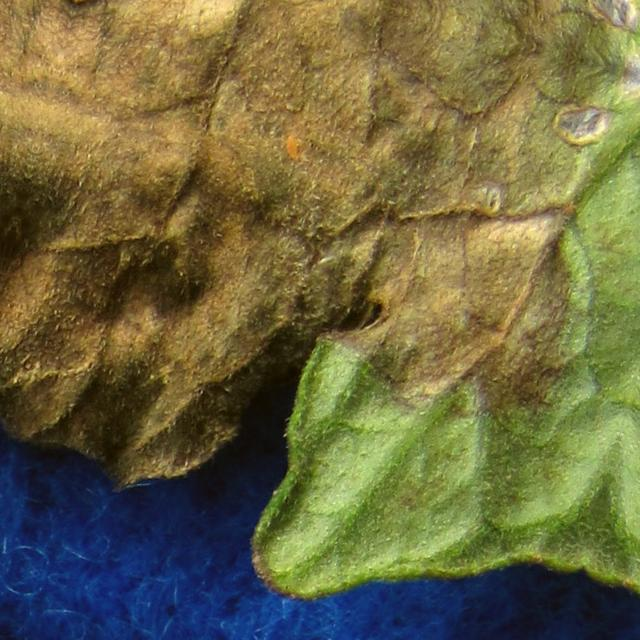Tomato leaf late blight: (0, 456, 568, 640)
